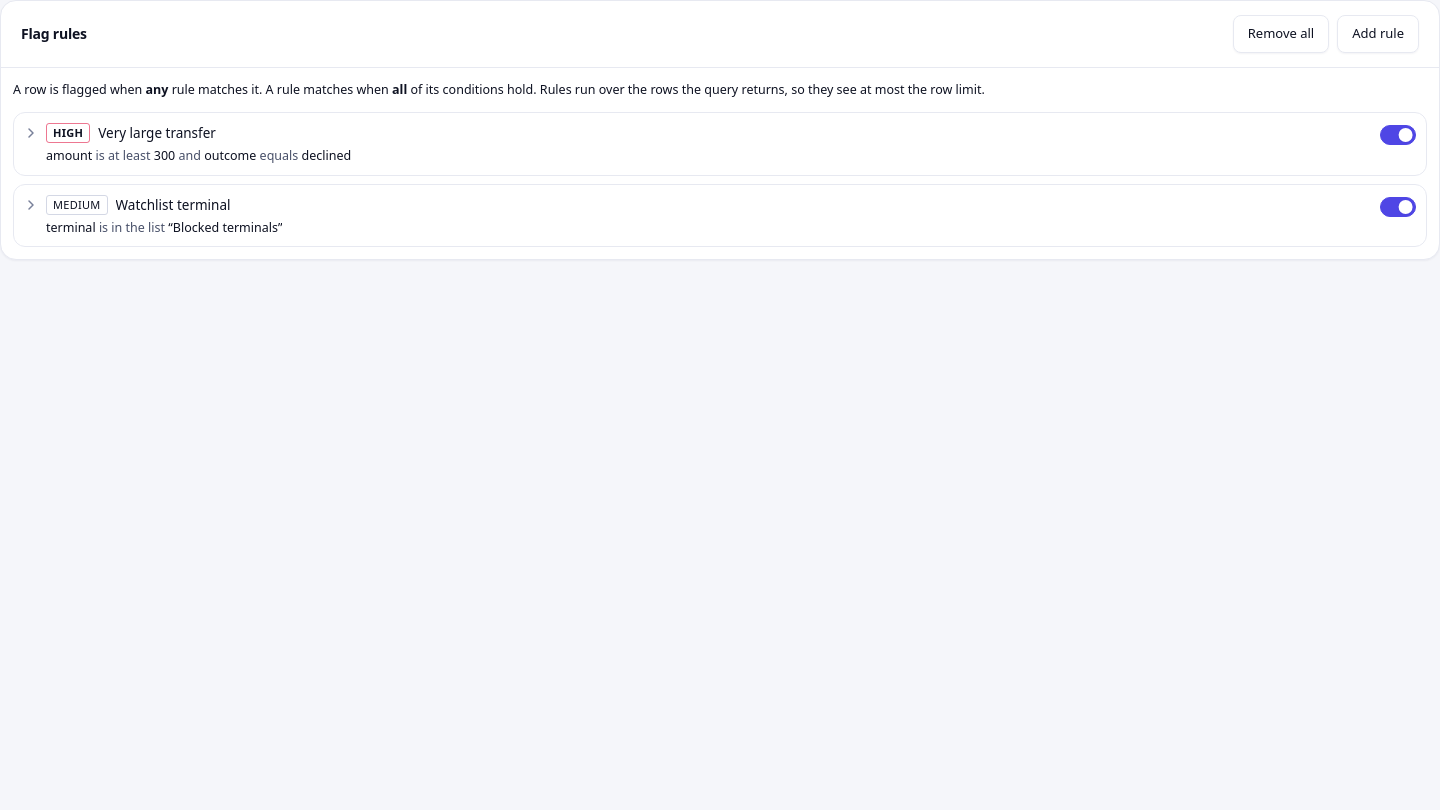
Test: opening and closing › closes on a second press of the line
This screenshot has width=1440, height=810.
Step 1. Click the button with aria-label "Edit rule Very large transfer" → (68, 133), box [24,123,1372,164]
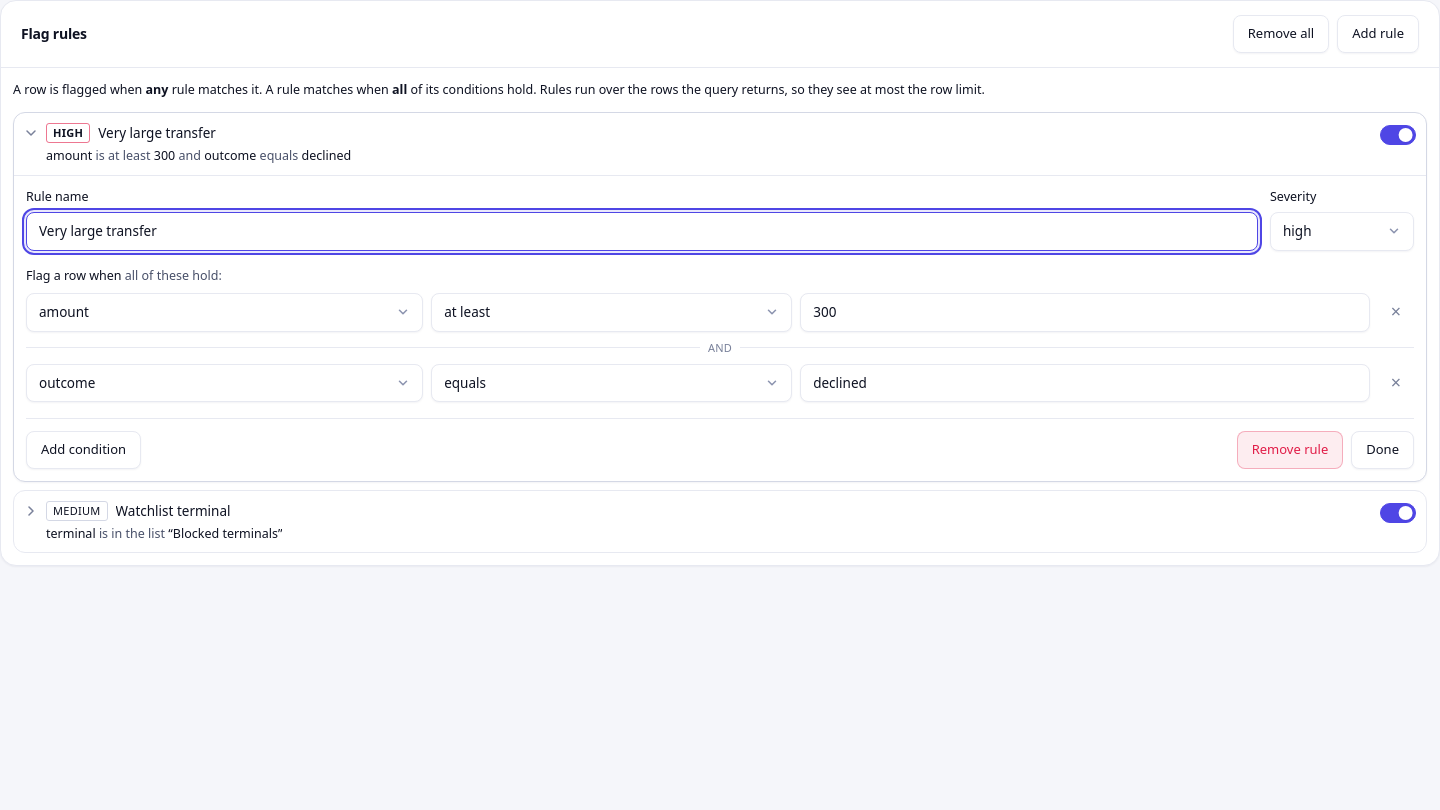
Step 2. Click the button with aria-label "Close rule Very large transfer" → (68, 133), box [24,123,1372,164]
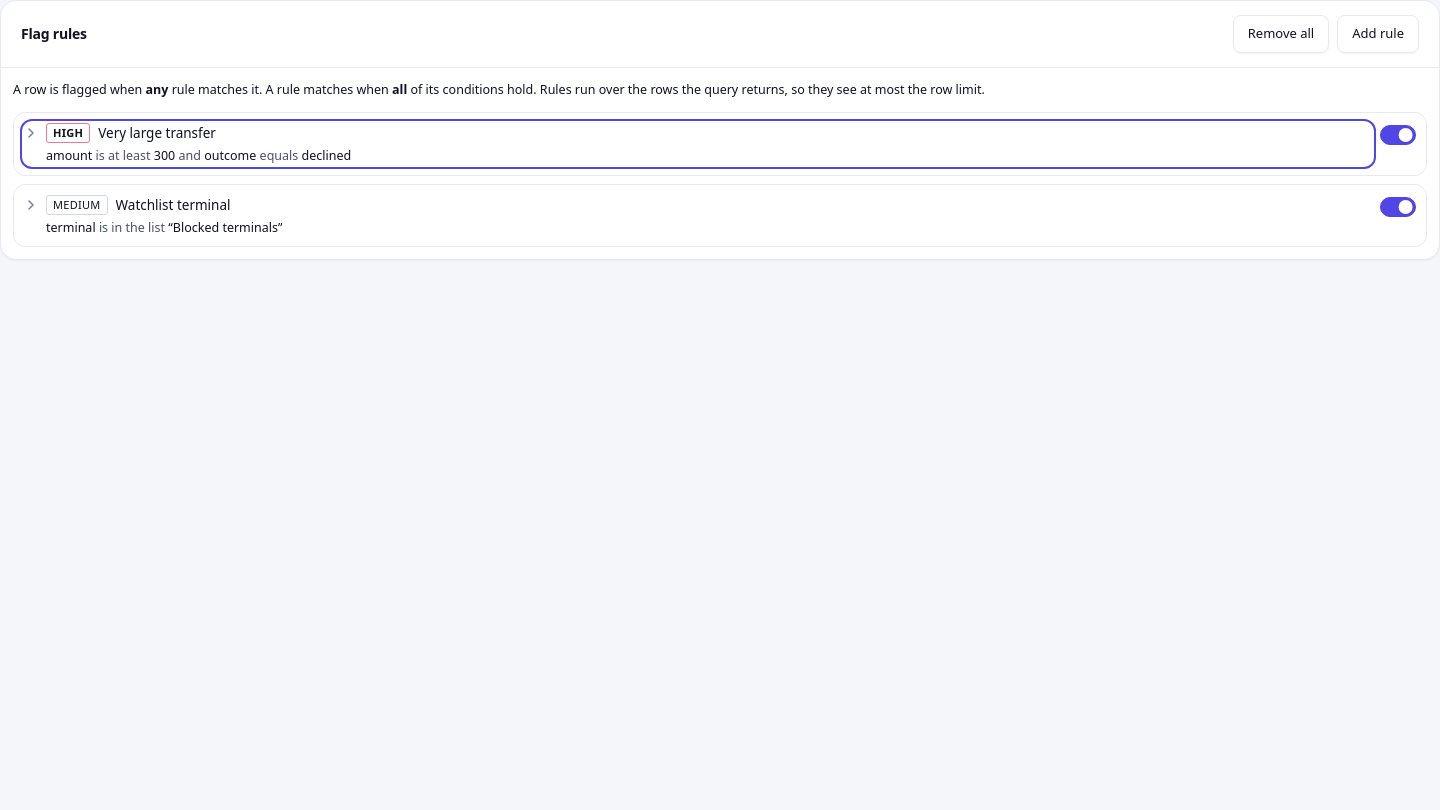
expect the label labelled "Rule name" is gone: met
